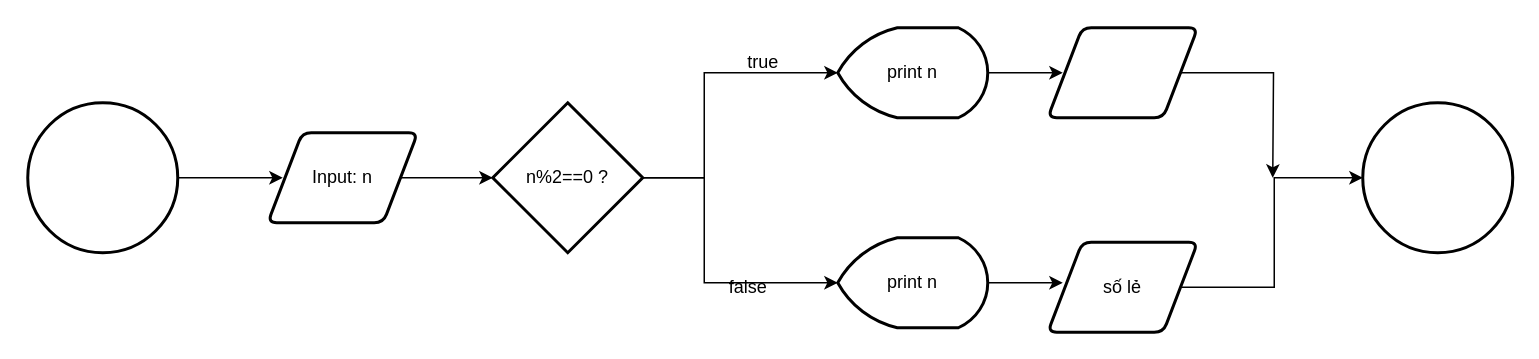
This 1539x359 diagram has some shape labels left out. Each missing label, with the box of its shape:
Begin: (26, 100, 178, 254)
End: (1360, 100, 1514, 254)
số chẵn: (1046, 26, 1198, 118)
